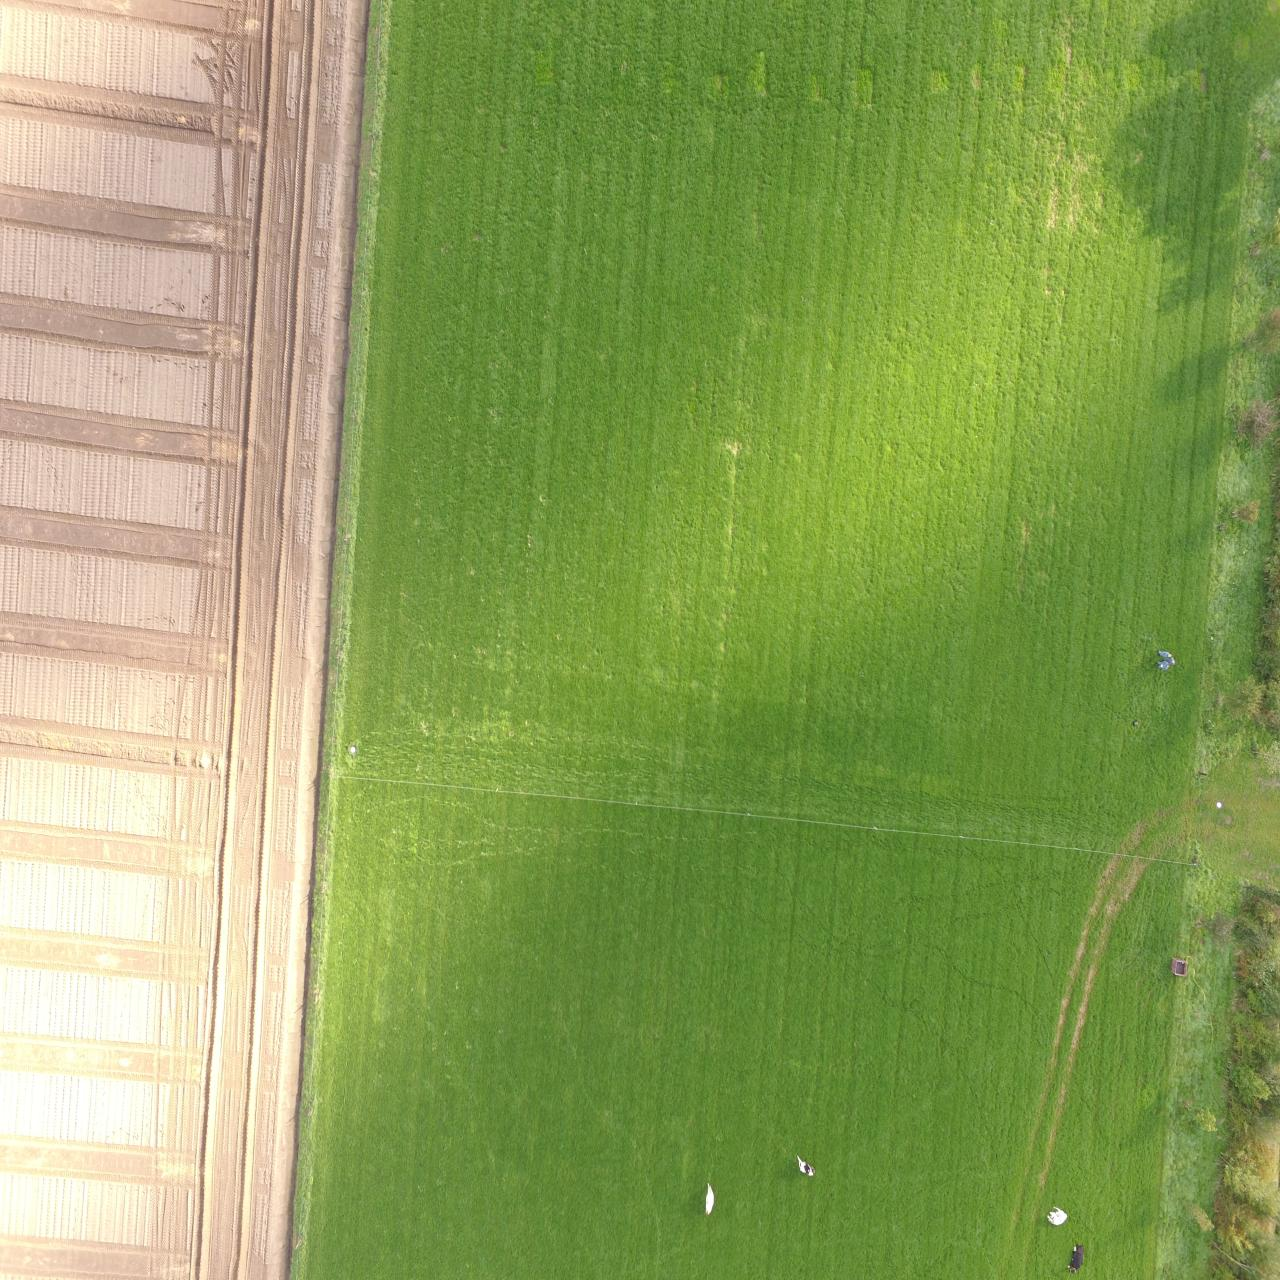cow: (1067, 1242, 1085, 1275), (1046, 1207, 1068, 1226), (704, 1181, 715, 1218), (796, 1154, 814, 1176)
